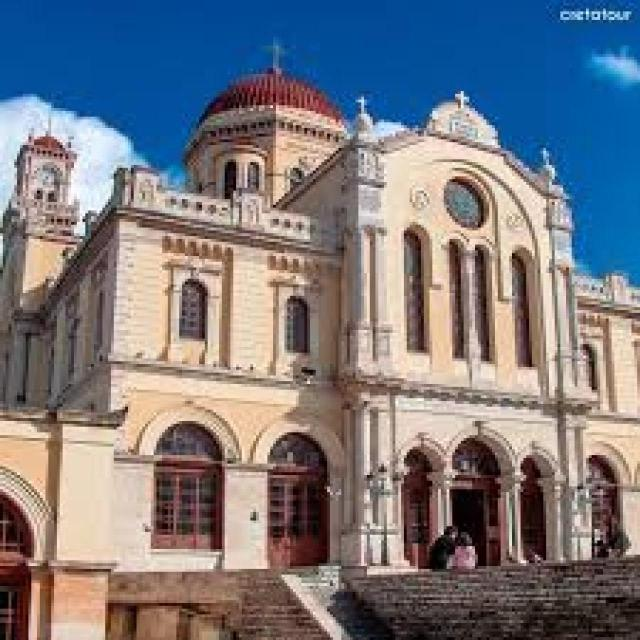Agios Minas: (1, 54, 640, 562)
